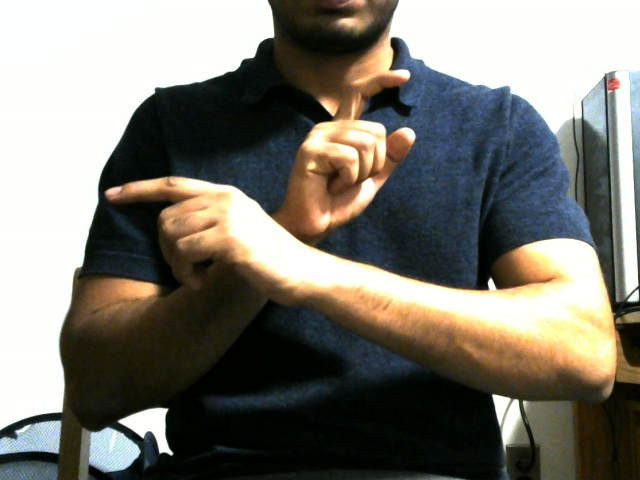call: (65, 53, 473, 316)
